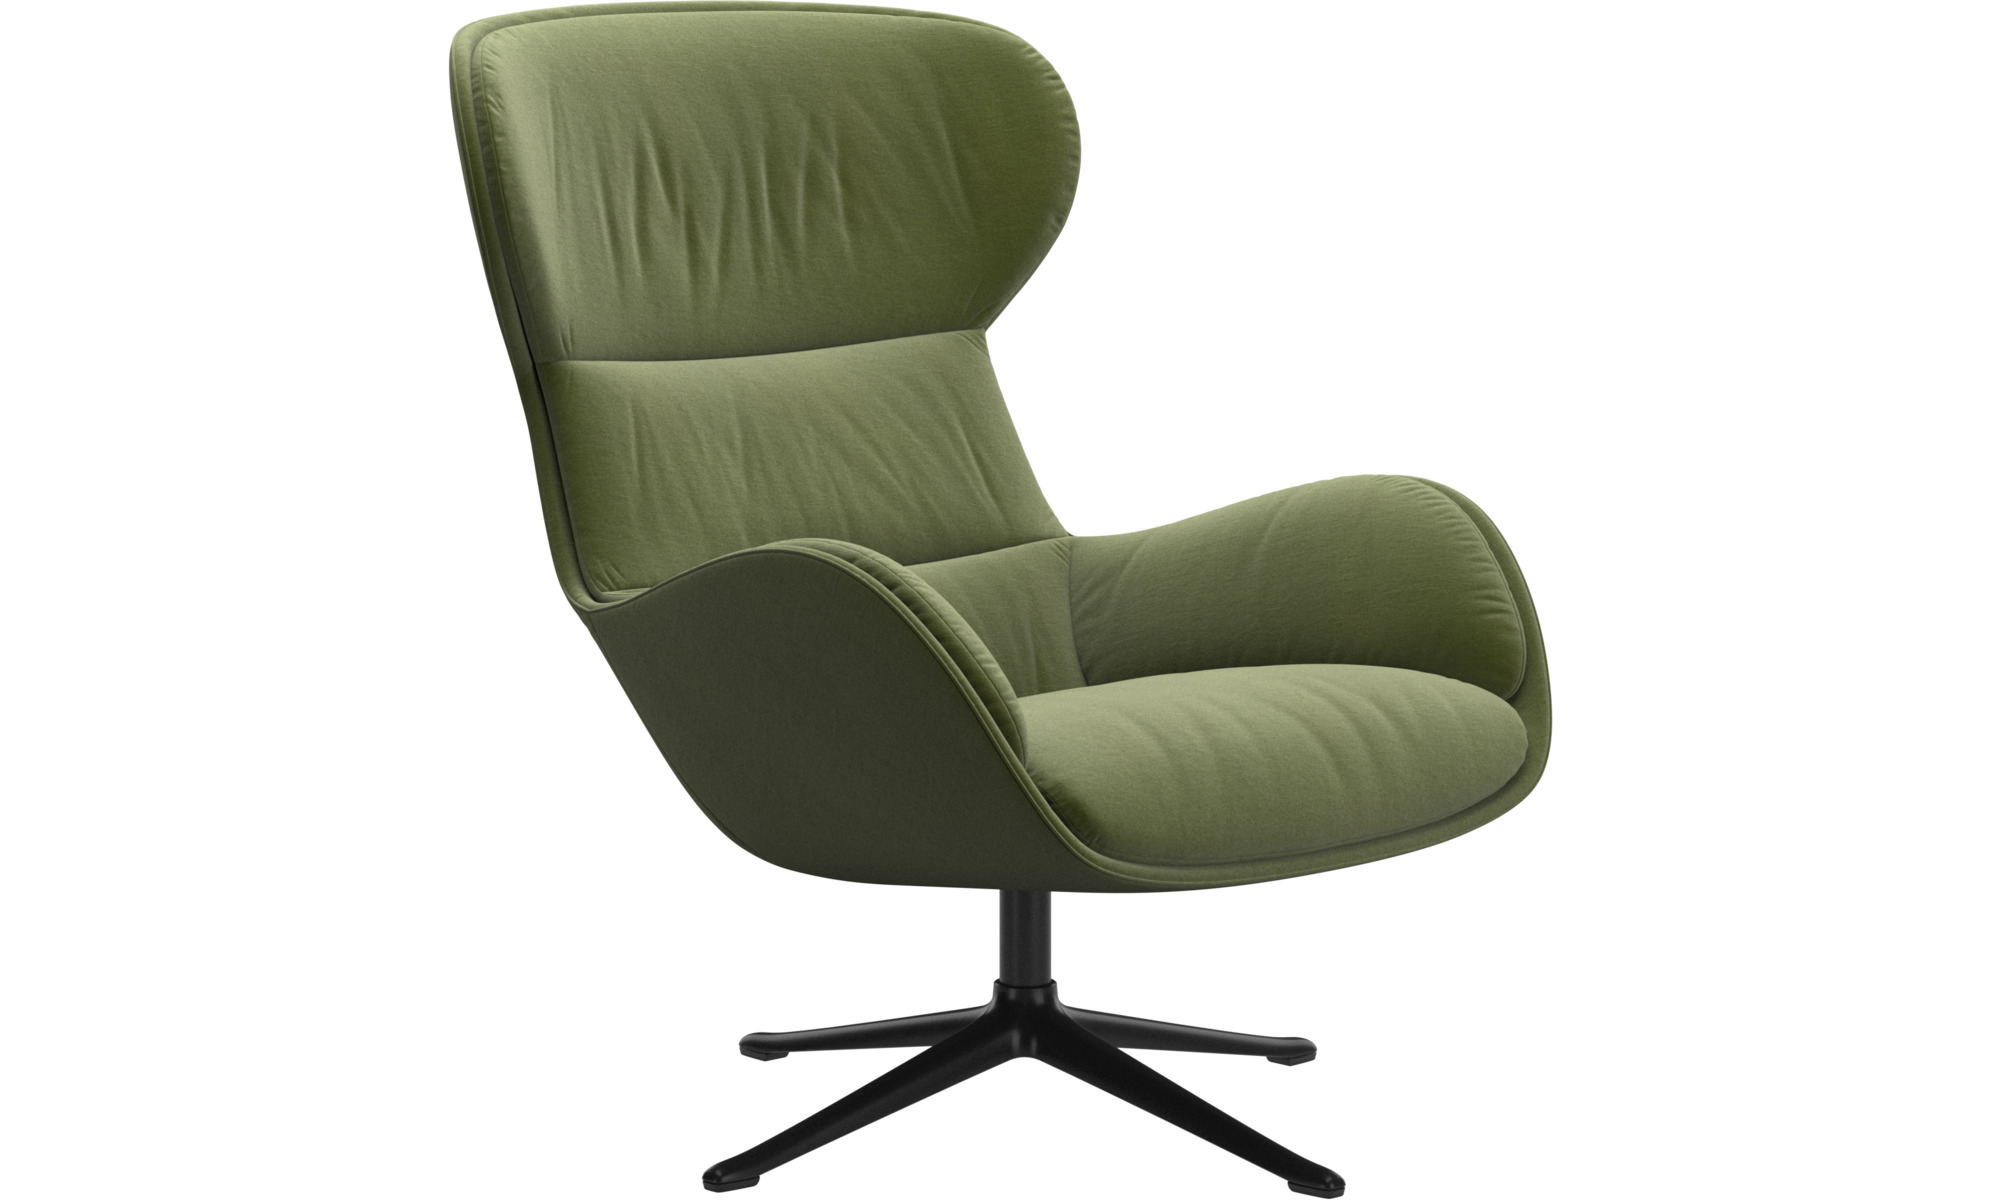chair: (369, 4, 1639, 1190)
